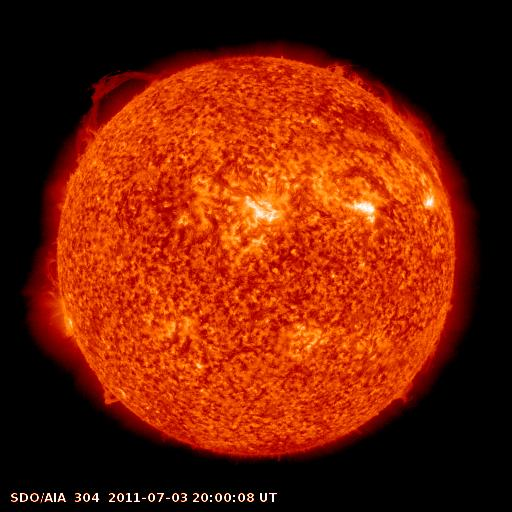prominence: (66, 63, 161, 164), (313, 53, 395, 109), (398, 103, 444, 176), (88, 378, 128, 415), (41, 227, 62, 289), (392, 379, 420, 412)
